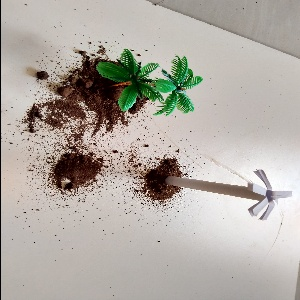plant: (94, 49, 199, 117)
weed: (162, 160, 292, 226)
